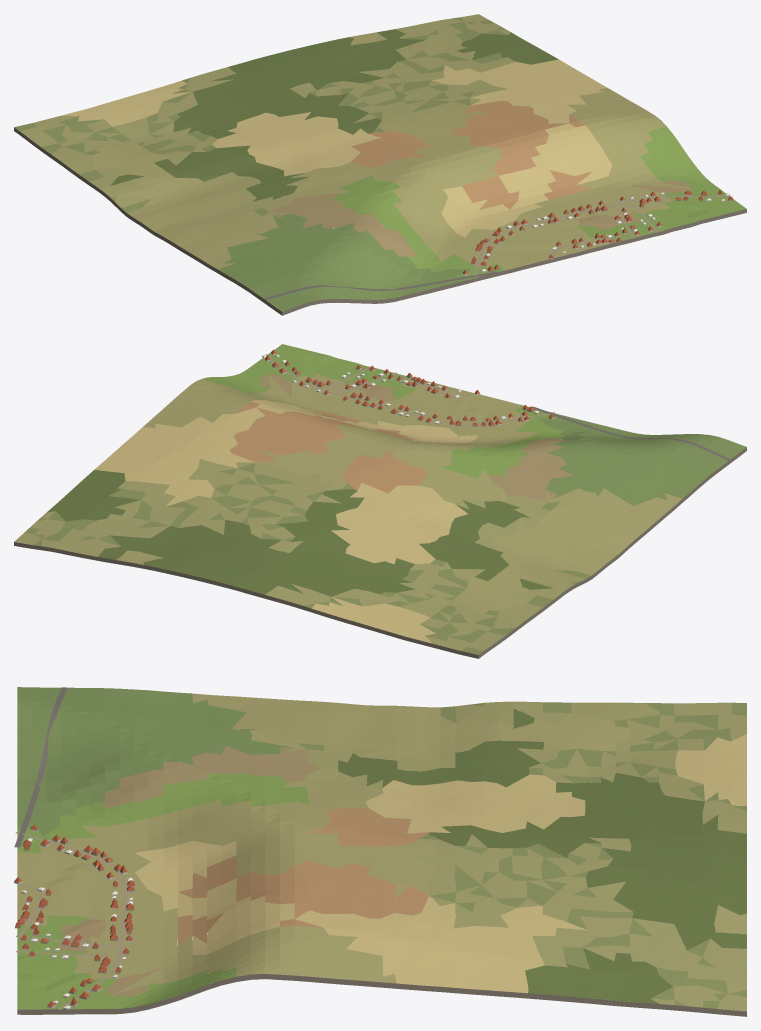
The model's file is parca_-1_-5-uzak.glb.
The picture shows the model from 3 angles, top to bottom: view 1: azimuth 30°, elevation 25°; view 2: azimuth 150°, elevation 25°; view 3: azimuth 270°, elevation 25°; orthographic projection. The views are drawn at different scales.
Parts seen in each view (by area): view 1: parca_-1_-5_arazi_uzak, parca_-1_-5_yapilar_uzak, parca_-1_-5_yollar_uzak; view 2: parca_-1_-5_arazi_uzak, parca_-1_-5_yapilar_uzak, parca_-1_-5_yollar_uzak; view 3: parca_-1_-5_arazi_uzak, parca_-1_-5_yapilar_uzak, parca_-1_-5_yollar_uzak.
Boxes of the visible parts, bbox=[...] form: parca_-1_-5_arazi_uzak: bbox=[14, 14, 746, 315]; parca_-1_-5_yapilar_uzak: bbox=[462, 189, 733, 275]; parca_-1_-5_yollar_uzak: bbox=[264, 196, 732, 300]; parca_-1_-5_arazi_uzak: bbox=[14, 344, 746, 658]; parca_-1_-5_yapilar_uzak: bbox=[262, 349, 554, 426]; parca_-1_-5_yollar_uzak: bbox=[265, 354, 730, 460]; parca_-1_-5_arazi_uzak: bbox=[17, 687, 746, 1016]; parca_-1_-5_yapilar_uzak: bbox=[14, 824, 134, 1010]; parca_-1_-5_yollar_uzak: bbox=[14, 687, 126, 1009].
Bounding box in the file's own units: 1005 × 78.19 × 1005.
